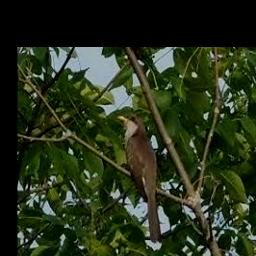Cuckoo: (116, 114, 162, 242)
